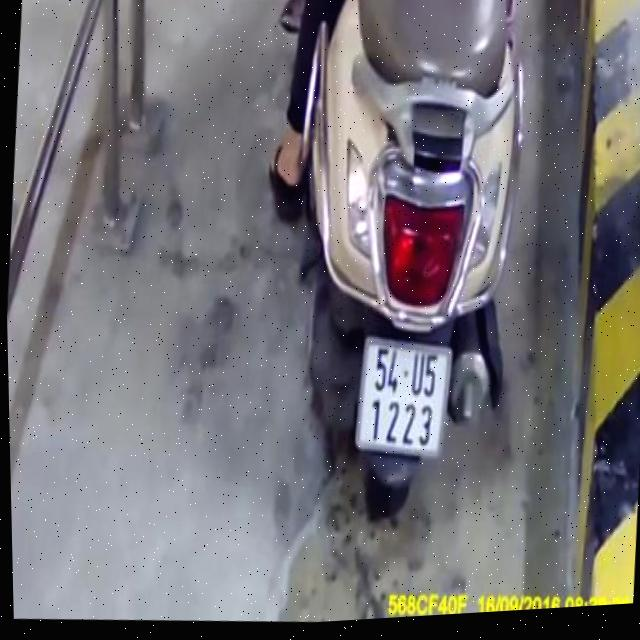motorcycle: (269, 0, 550, 543)
plate: (338, 321, 462, 469)
